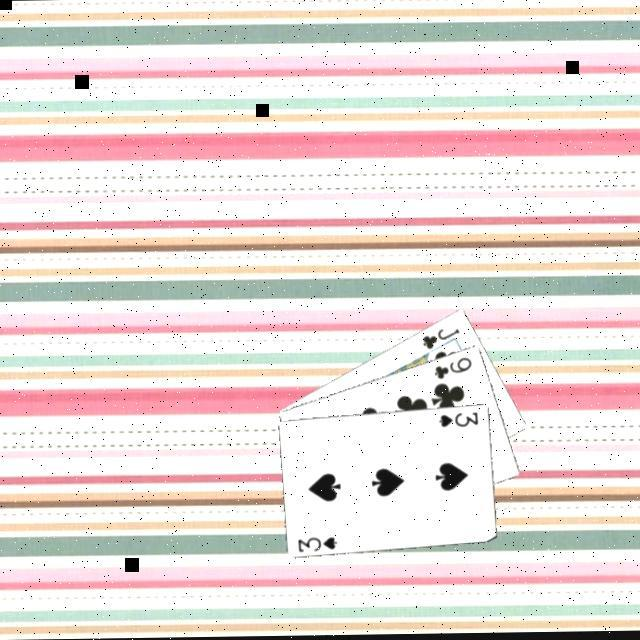3S: (438, 408, 484, 429), (297, 533, 343, 554)
9C: (433, 352, 477, 382)
JC: (421, 324, 465, 352)
